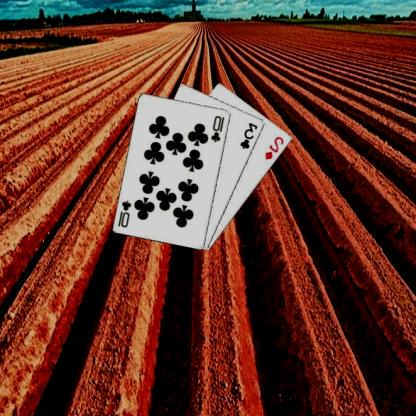10C: (210, 113, 228, 144), (118, 198, 134, 229)
2D: (265, 134, 287, 161)
3C: (239, 120, 261, 150)
